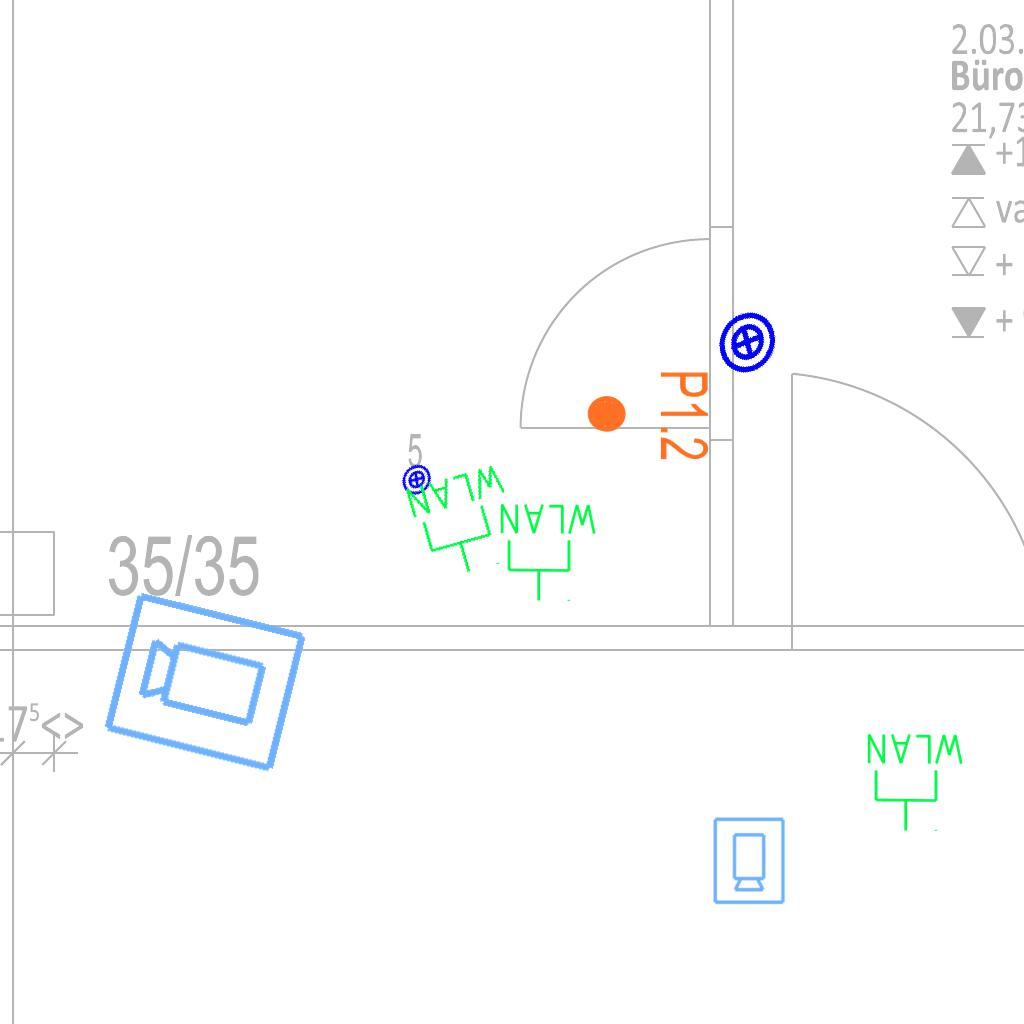Downlight_LED_Einbauleuchten_Flur: (584, 369, 712, 462)
KFO_Kamera_mit_Festobjektiv: (99, 584, 313, 778), (710, 815, 787, 906)
Taster_beleuchtet: (702, 297, 792, 387), (393, 456, 440, 503)
WLAN: (400, 458, 530, 587), (863, 730, 968, 834), (496, 500, 601, 604)
